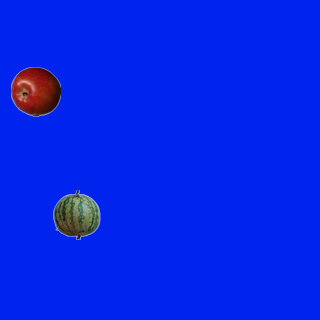Apple Braeburn: (10, 66, 60, 116)
Watermelon: (51, 189, 101, 239)
